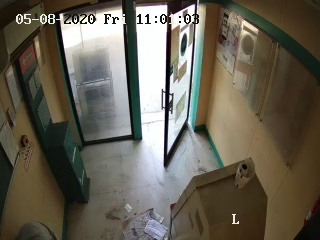open: (124, 4, 198, 170)
